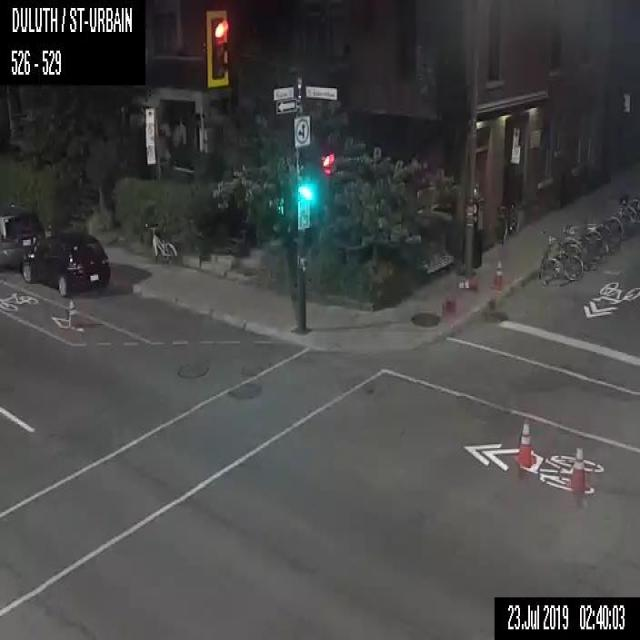construction: (569, 447, 587, 492), (517, 422, 532, 466), (442, 298, 456, 320), (66, 298, 76, 326), (493, 259, 502, 288), (461, 275, 479, 288)
vehicle: (21, 233, 111, 296), (0, 204, 45, 269)
